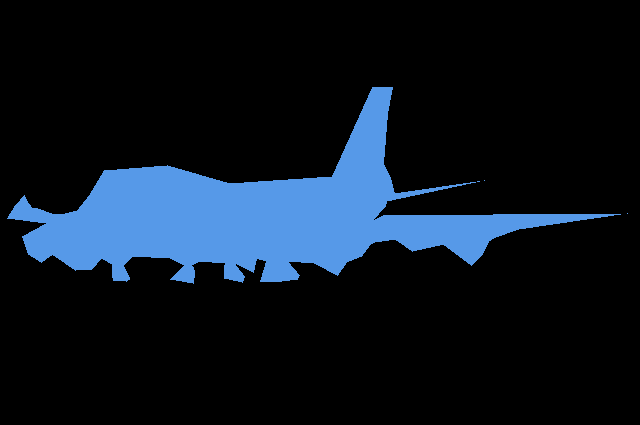Airplane: (7, 87, 627, 284)
